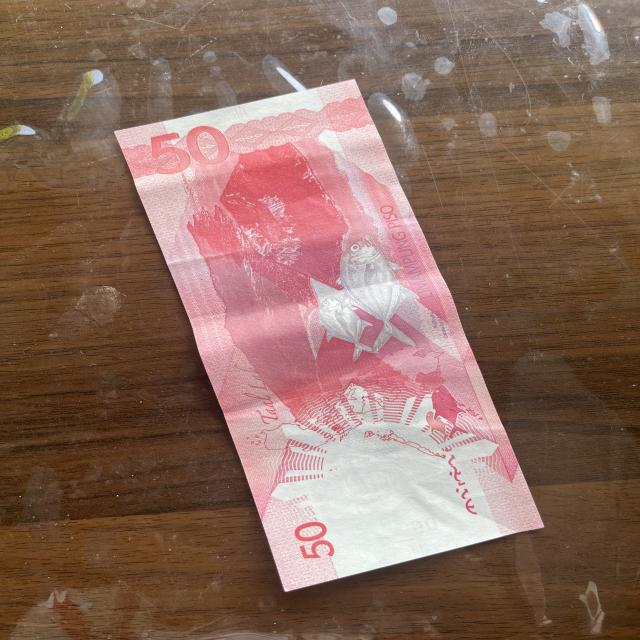50_maliputo: (289, 232, 438, 358)
50_maliputo_watermark: (417, 374, 472, 450)
value_watermark: (412, 514, 444, 535)
watermark: (306, 448, 447, 546)
